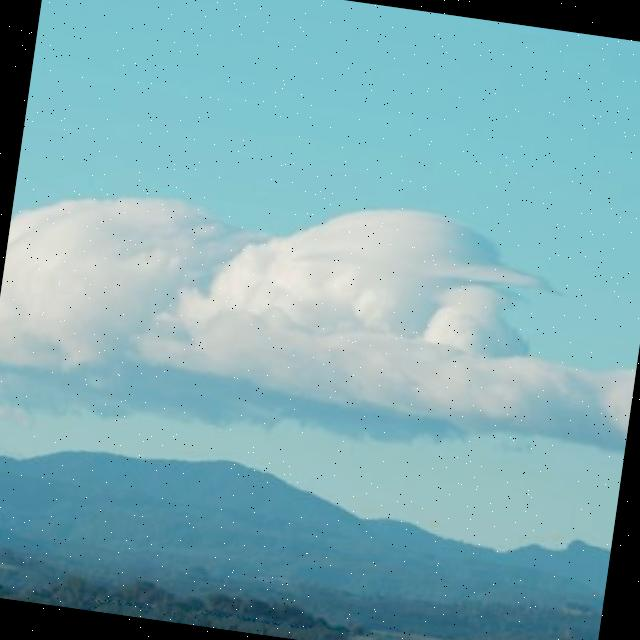Cu: (1, 145, 640, 511)
